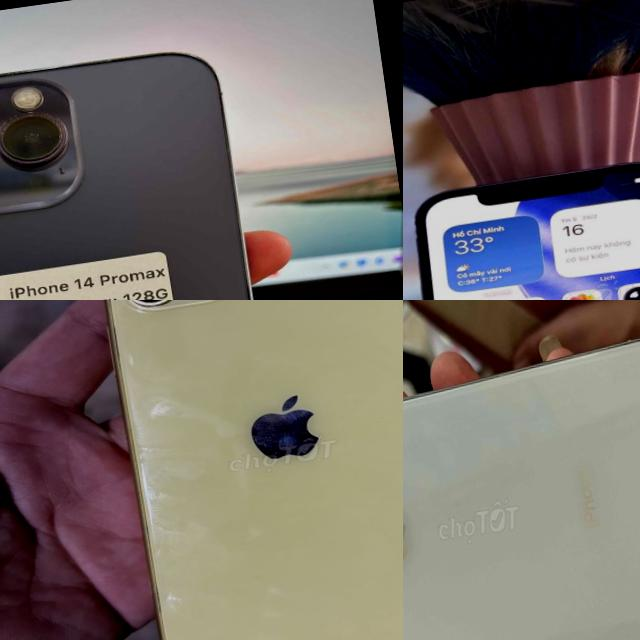gen_11: (80, 300, 403, 640)
gen_12_13: (403, 147, 640, 300)
gen_14: (0, 36, 311, 300)
gen_x_xs: (403, 326, 640, 640)
scratch: (0, 100, 81, 182)
